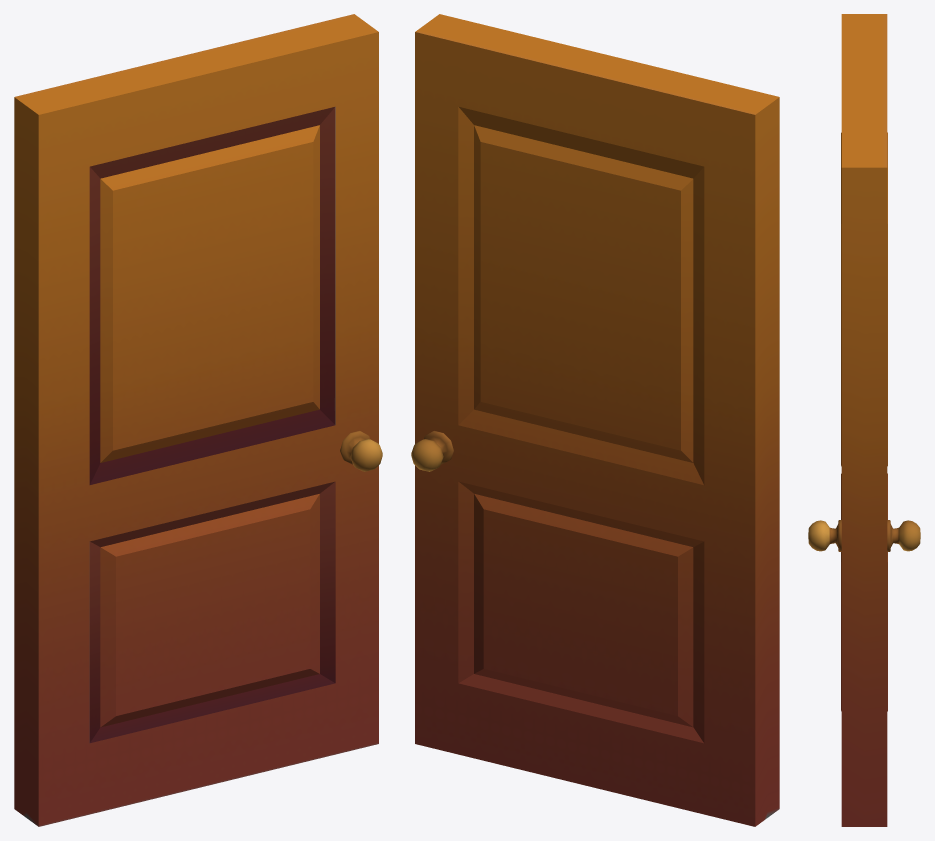
Rendered from P_Door.fbx.
3 renders of one model, left to right at view 1: azimuth 30°, elevation 25°; view 2: azimuth 150°, elevation 25°; view 3: azimuth 270°, elevation 25°, orthographic. The views are drawn at different scales.
Parts seen in each view (by area): view 1: DoorBody, DoorKnobs; view 2: DoorBody, DoorKnobs; view 3: DoorBody, DoorKnobs.
Boxes of the visible parts, box(x1,y1,x2,y2) form: DoorBody: box(14, 14, 378, 826); DoorKnobs: box(340, 431, 382, 471); DoorBody: box(415, 14, 779, 826); DoorKnobs: box(411, 431, 453, 471); DoorBody: box(841, 14, 887, 826); DoorKnobs: box(808, 520, 920, 551).
Bounding box in the file's own units: 100 × 200 × 30.94.
